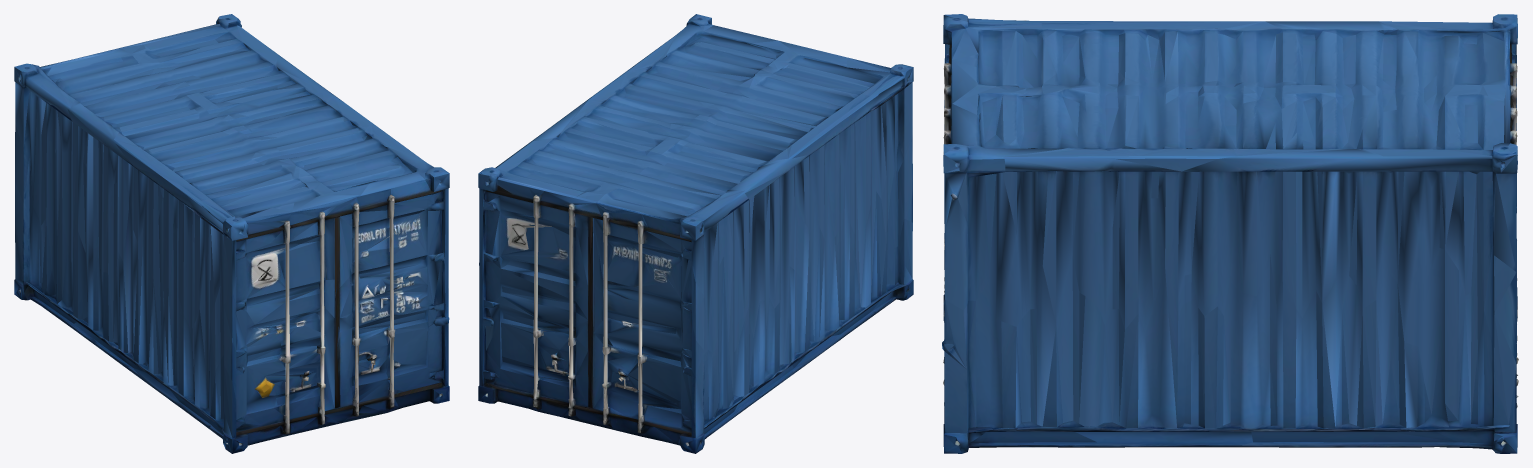
File: container2.glb
3 renders of one model, left to right at view 1: azimuth 30°, elevation 25°; view 2: azimuth 150°, elevation 25°; view 3: azimuth 270°, elevation 25°, orthographic. The views are drawn at different scales.
Visible parts, largest first — view 1: tripo_node_91fef0d0; view 2: tripo_node_91fef0d0; view 3: tripo_node_91fef0d0.
Part boxes in pixels (x1,y1,x2,y2): tripo_node_91fef0d0: (14,14,449,453); tripo_node_91fef0d0: (478,14,913,453); tripo_node_91fef0d0: (942,14,1518,453).
Size of the model in its own units: 1.01 by 1 by 1.74.
1 material, 1 textured.
